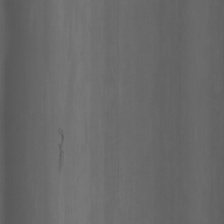water_spot: (54, 120, 70, 176)
